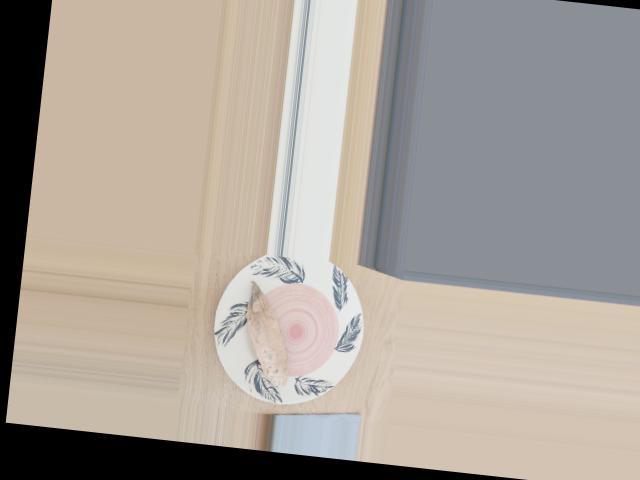sweet_potato: (239, 291, 300, 381)
